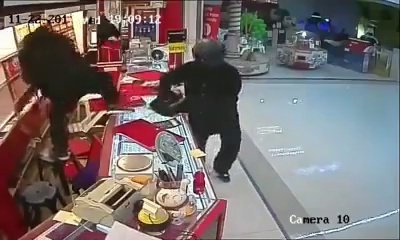helmet: (189, 34, 228, 70)
